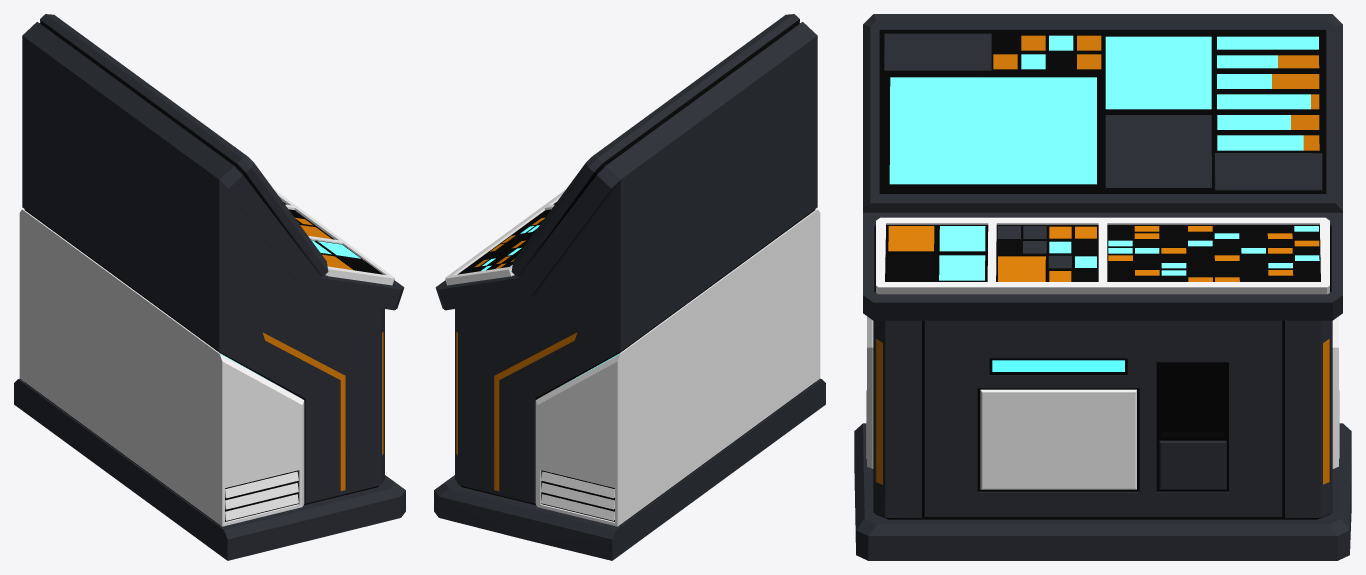
File: SM_Control_Console_Standalone.fbx
3 renders of one model, left to right at view 1: azimuth 30°, elevation 25°; view 2: azimuth 150°, elevation 25°; view 3: azimuth 270°, elevation 25°, orthographic. The views are drawn at different scales.
Visible parts, largest first — view 1: SM_Control_Console_Standalone; view 2: SM_Control_Console_Standalone; view 3: SM_Control_Console_Standalone.
Boxes of the visible parts, x1,y1,x2,y2 form: SM_Control_Console_Standalone: (14, 14, 405, 560); SM_Control_Console_Standalone: (434, 14, 825, 560); SM_Control_Console_Standalone: (854, 14, 1351, 560).
Bounding box in the file's own units: 70.46 × 142 × 141.
